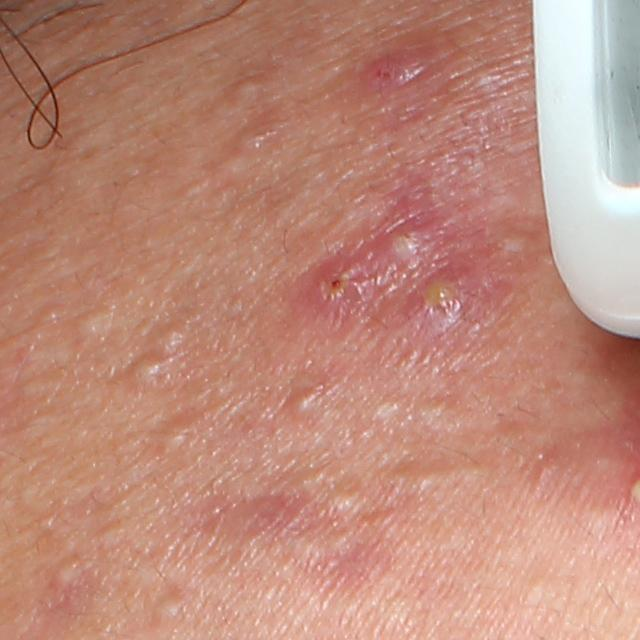comedo: (382, 459, 441, 501), (220, 75, 269, 105), (153, 414, 188, 456), (128, 356, 173, 384), (68, 309, 108, 339), (148, 590, 185, 622), (155, 322, 190, 350), (369, 394, 404, 422), (50, 557, 80, 587), (522, 577, 553, 605), (38, 302, 67, 325)
papule: (357, 49, 431, 96)
pustule: (306, 256, 378, 317), (405, 270, 480, 325), (382, 215, 445, 275)
